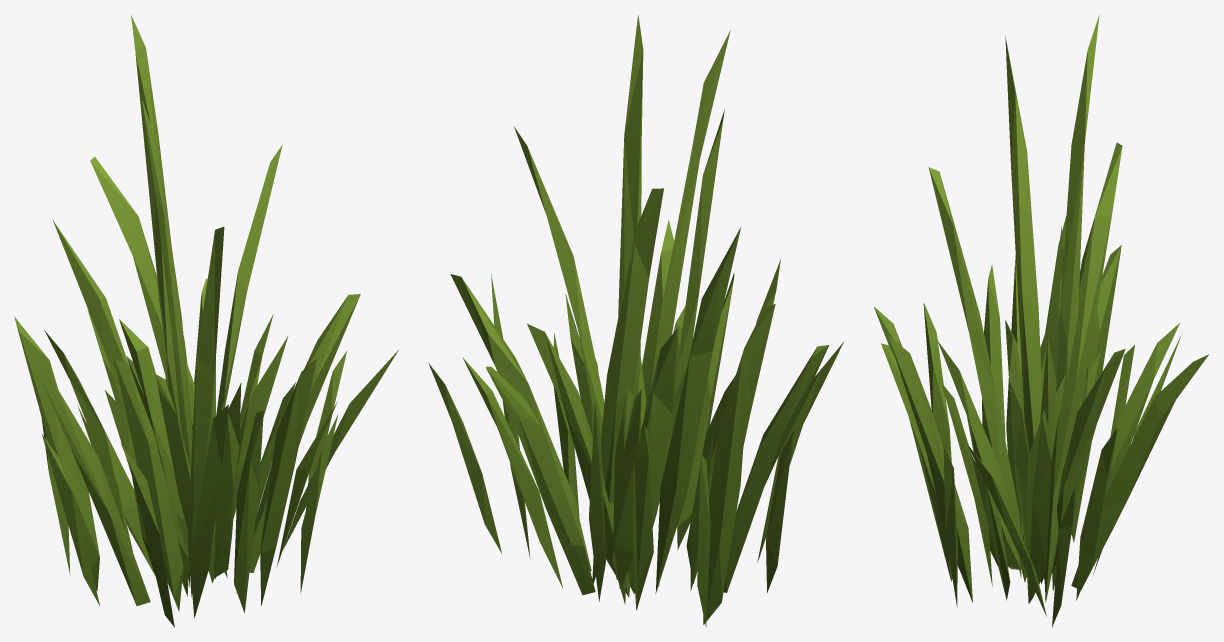
Rendered from ZLP_Grass_A_12.FBX.
3 views of the same model, side by side, from view 1: azimuth 30°, elevation 25°; view 2: azimuth 150°, elevation 25°; view 3: azimuth 270°, elevation 25° (orthographic). The views are drawn at different scales.
Visible parts, largest first — view 1: ZLP_Grass_A_12; view 2: ZLP_Grass_A_12; view 3: ZLP_Grass_A_12.
Part boxes in pixels (x1=…): ZLP_Grass_A_12: x1=14, y1=14, x2=398, y2=627; ZLP_Grass_A_12: x1=428, y1=15, x2=843, y2=627; ZLP_Grass_A_12: x1=873, y1=14, x2=1208, y2=627.
Size of the model in its own units: 102 by 164 by 89.13.
